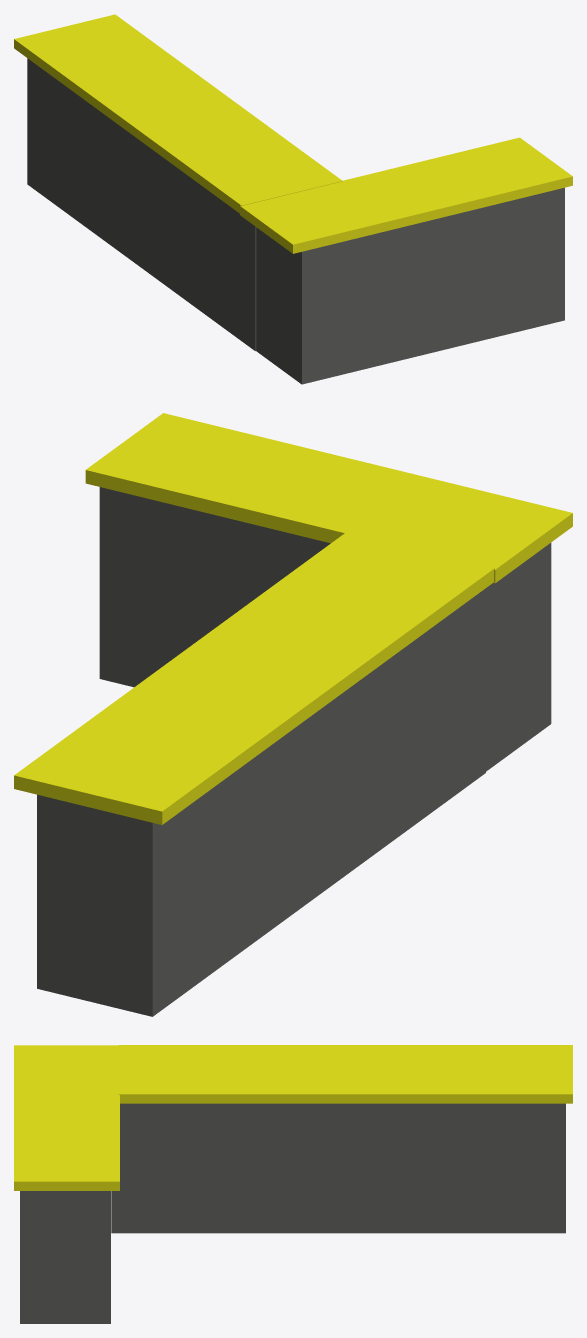
Rendered from mesaconserjesEmma.glb.
3 views of the same model, one above another, from view 1: azimuth 30°, elevation 25°; view 2: azimuth 150°, elevation 25°; view 3: azimuth 270°, elevation 25° (orthographic). The views are drawn at different scales.
Parts seen in each view (by area): view 1: Cube, Cube.001, Cube.003, Cube.002; view 2: Cube.001, Cube.003, Cube, Cube.002; view 3: Cube.001, Cube.003, Cube.002, Cube.
Part boxes in pixels (x1,y1,x2,y2): Cube: (256,187,564,384); Cube.001: (27,58,256,350); Cube.003: (14,14,342,213); Cube.002: (240,137,572,253); Cube.001: (37,588,485,1016); Cube.003: (14,532,494,824); Cube: (99,487,551,771); Cube.002: (85,413,572,583); Cube.001: (111,1103,565,1233); Cube.003: (118,1045,572,1103); Cube.002: (14,1045,119,1190); Cube: (20,1191,110,1323).
Bounding box in the file's own units: 2.13 × 1.06 × 3.69.
